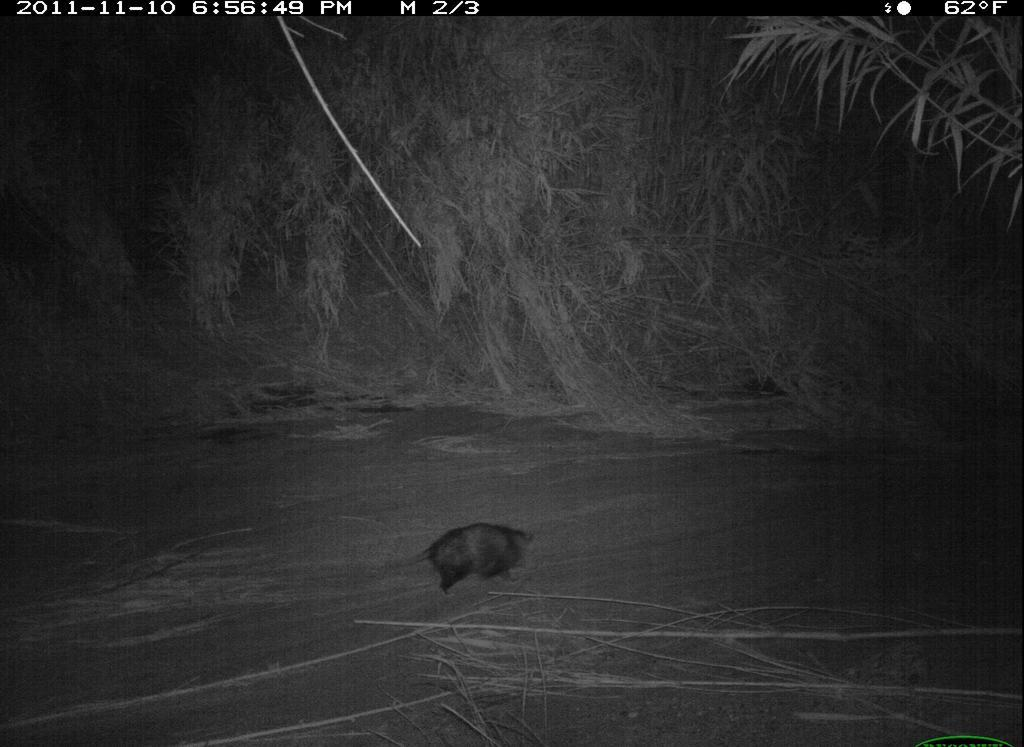opossum: (368, 516, 546, 605)
